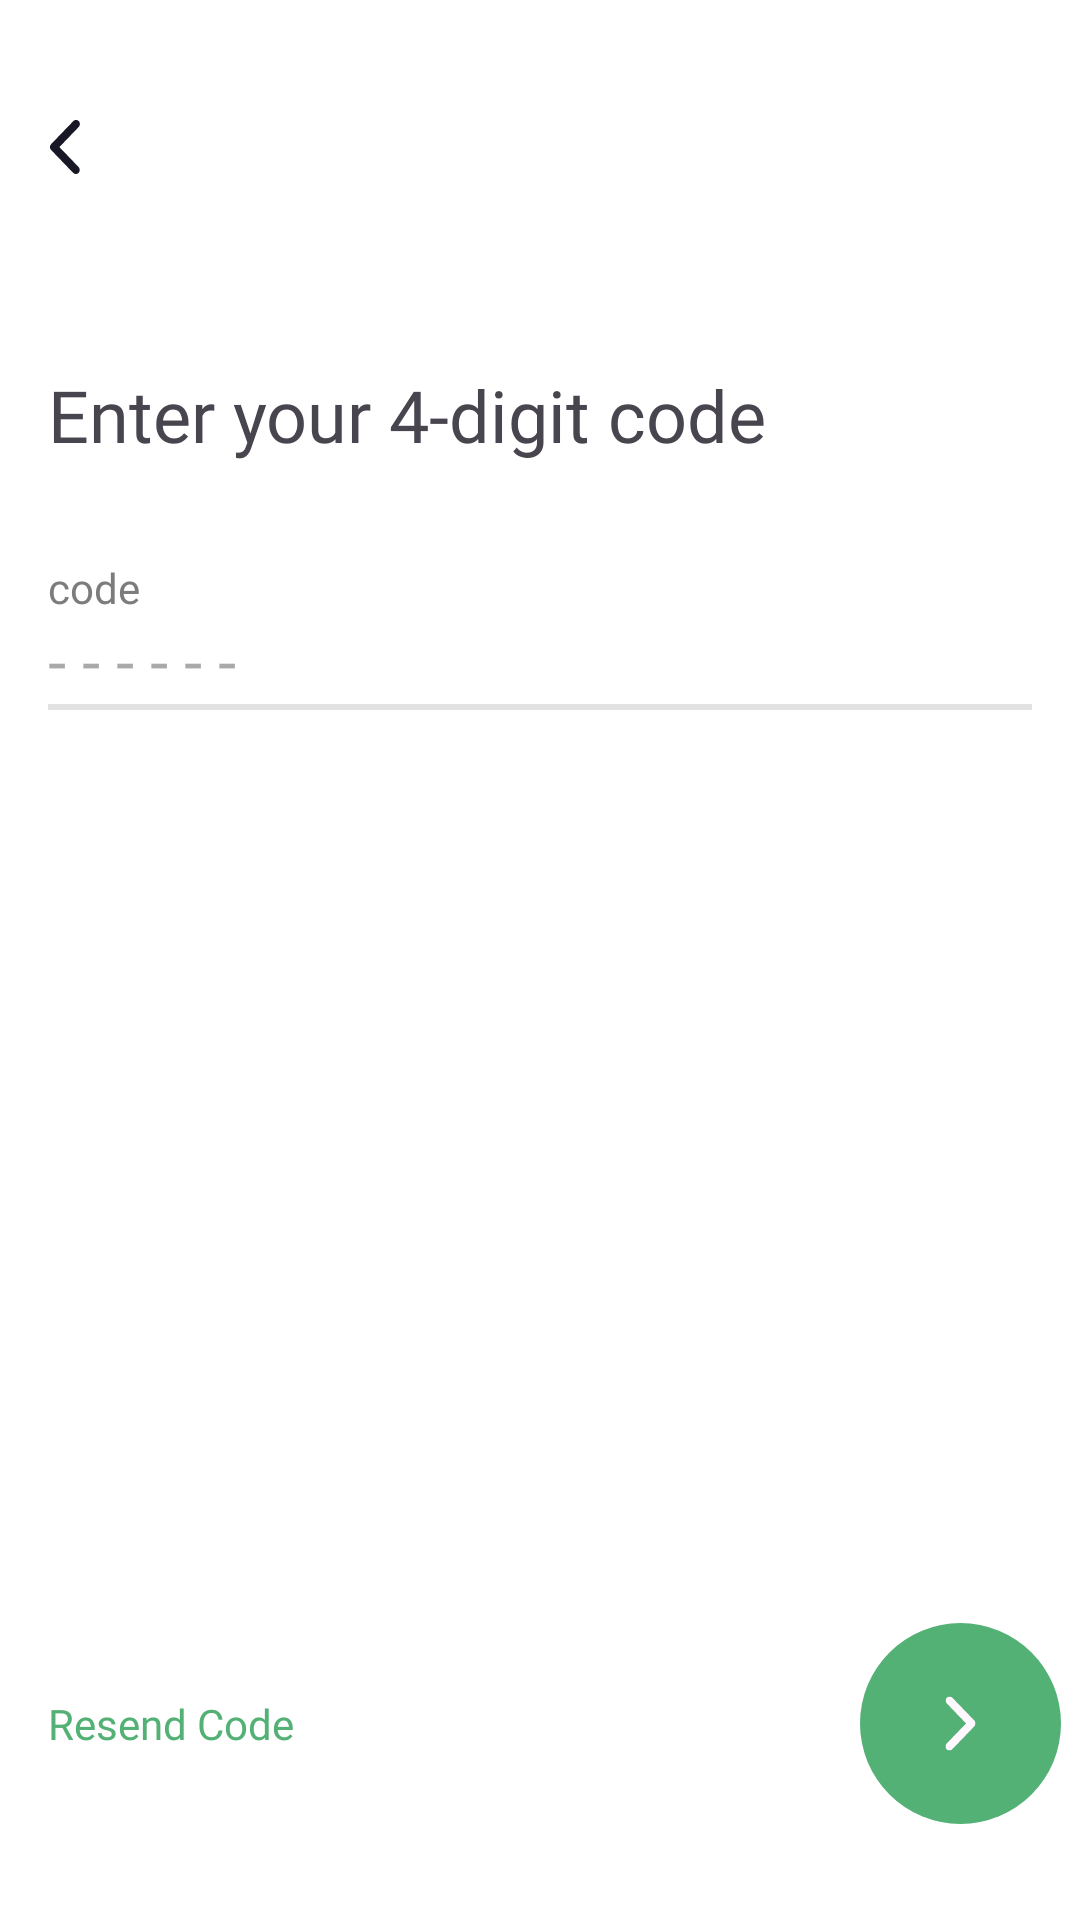

Locate icon controls on the screen. Image size 1080 x 1920, boxes as detection(x1, y1, x2, y2).
back: detection(50, 120, 80, 174)
